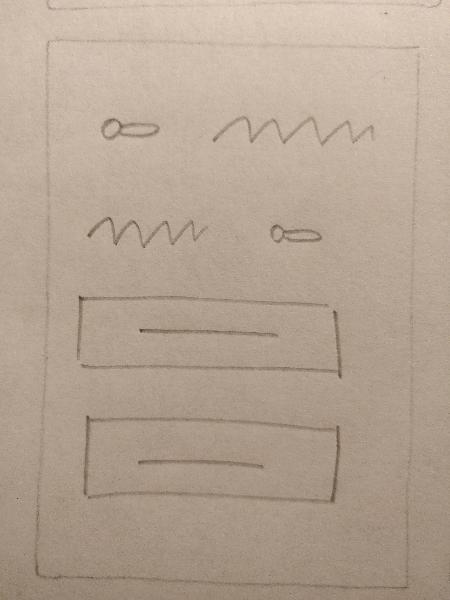button: (72, 407, 353, 517), (64, 284, 352, 389)
switch: (87, 103, 168, 153), (253, 211, 334, 259)
text: (196, 103, 384, 152), (80, 205, 213, 254)
